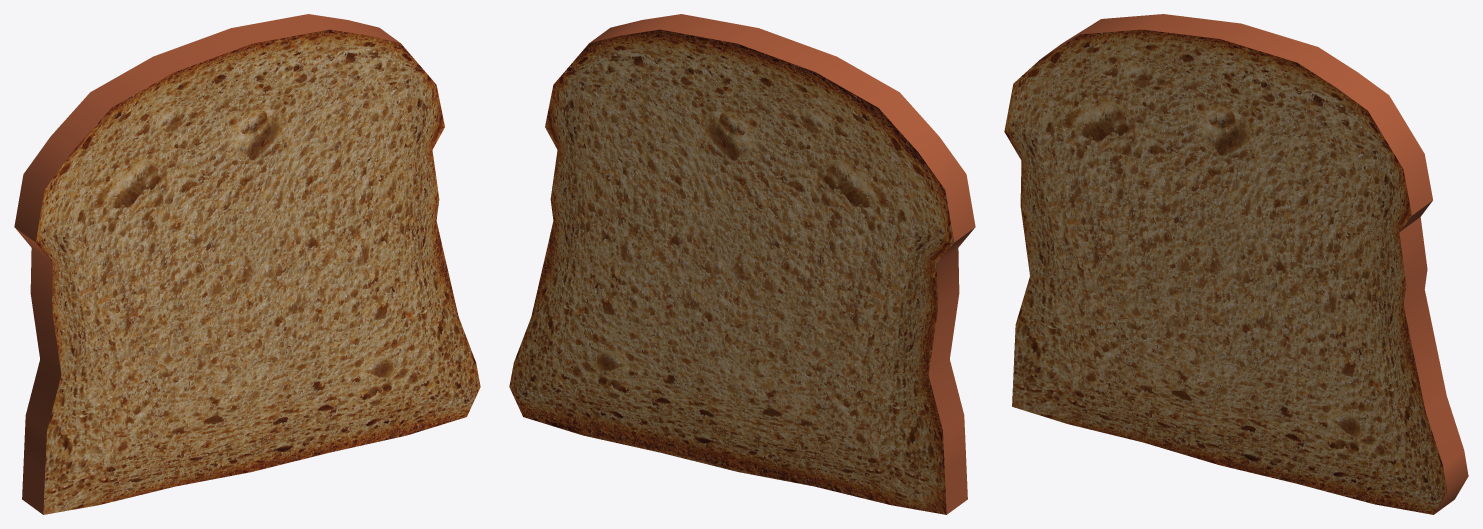
The model's file is Brot.fbx.
The picture shows the model from 3 angles, left to right: view 1: azimuth 30°, elevation 25°; view 2: azimuth 150°, elevation 25°; view 3: azimuth 330°, elevation 25°; orthographic projection.
Visible parts, largest first — view 1: Brot; view 2: Brot; view 3: Brot.
Boxes of the visible parts, x1,y1,x2,y2 form: Brot: [14, 14, 480, 514]; Brot: [509, 14, 975, 514]; Brot: [1004, 14, 1468, 514].
Bounding box in the file's own units: 21.21 × 19.56 × 1.76.
Materials: 1 (1 with a texture image).
